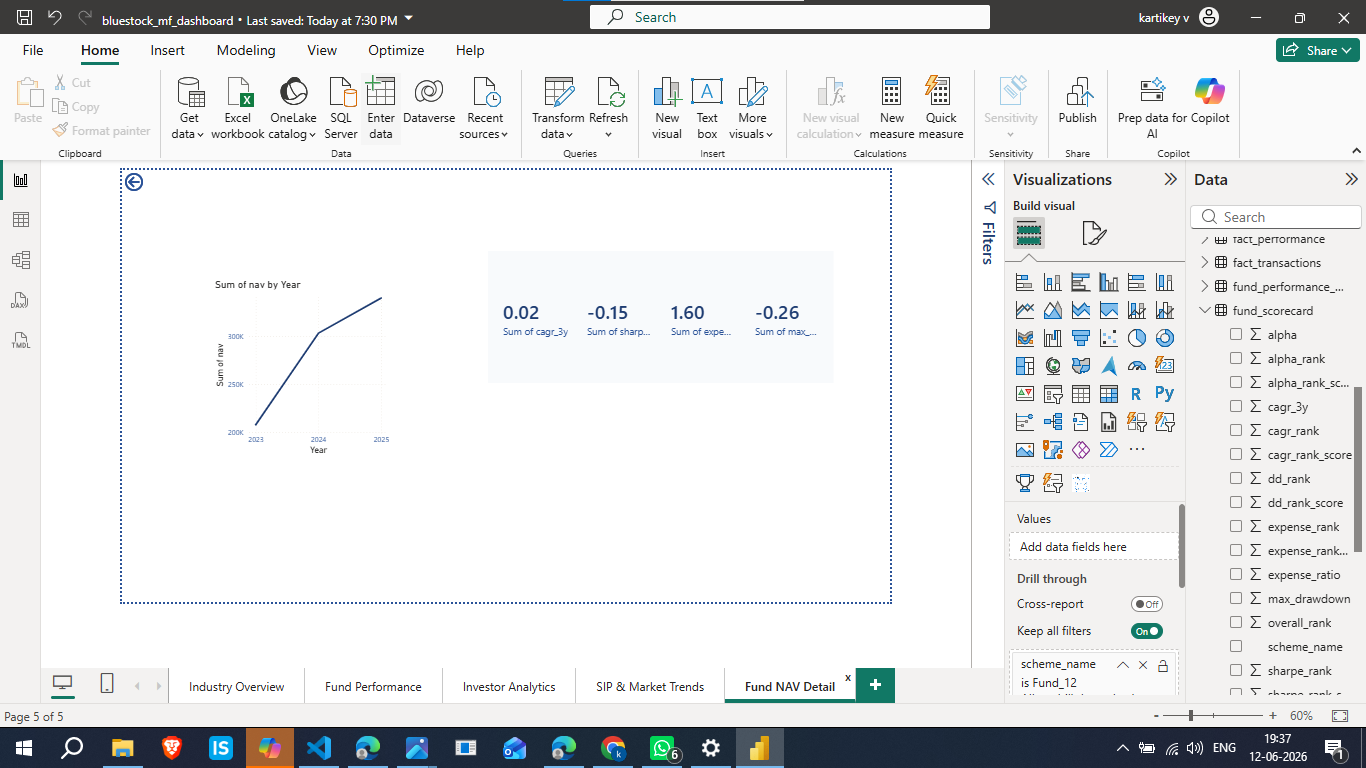

This screenshot's page, from the dashboard's own definition file:
{"tool":"powerbi","page":{"name":"Fund NAV Detail","canvas":[1280,720],"ordinal":4},"visuals":[{"type":"actionButton","box":[0,0,100,40],"z":0},{"type":"actionButton","box":[0,0,100,40],"z":1},{"type":"lineChart","fields":{"Category":["dim_date.full_date.Variation.Date Hierarchy.Year","dim_date.full_date.Variation.Date Hierarchy.Quarter","dim_date.full_date.Variation.Date Hierarchy.Month","dim_date.full_date.Variation.Date Hierarchy.Day"],"Y":["Sum(fact_nav.nav)"]},"box":[150,180,300,300],"z":2},{"type":"cardVisual","fields":{"Data":["Sum(fund_scorecard.cagr_3y)","Sum(fund_scorecard.sharpe_ratio)","Sum(fund_scorecard.expense_ratio)","Sum(fund_scorecard.max_drawdown)"]},"box":[605,130,586.7,230],"z":3}]}

Visuals, with their boxes on the page's 1280x720 design canvas (x1, y1, x2, y2). These are canvas units, not pixel positions in the 1366x768 screenshot, which may show the page scaled, cropped or inside an application window:
actionButton: 0, 0, 100, 40
actionButton: 0, 0, 100, 40
lineChart - dim_date.full_date.Variation.Date Hierarchy.Year x dim_date.full_date.Variation.Date Hierarchy.Quarter: 150, 180, 450, 480
cardVisual - Sum(fund_scorecard.cagr_3y) x Sum(fund_scorecard.sharpe_ratio): 605, 130, 1192, 360
